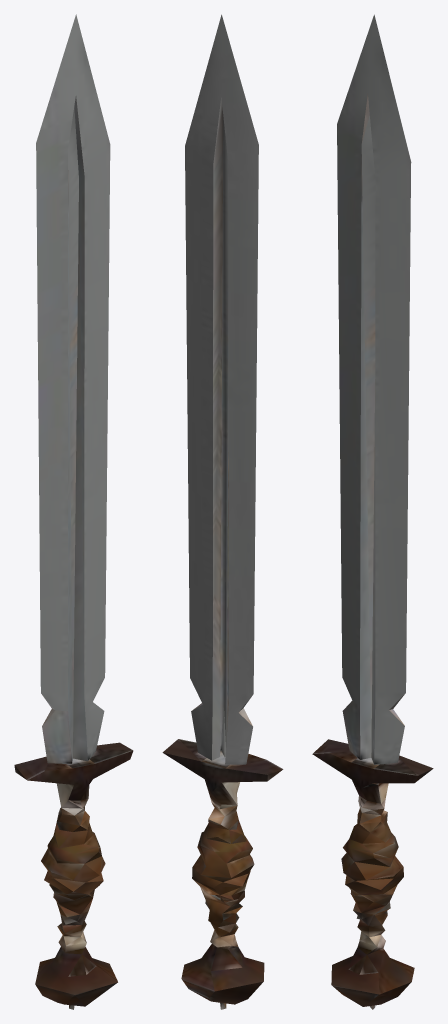
Rendered from weap_roman_gladius_pompeii_2.glb.
The picture shows the model from 3 angles, left to right: view 1: azimuth 30°, elevation 25°; view 2: azimuth 150°, elevation 25°; view 3: azimuth 330°, elevation 25°; orthographic projection.
Visible parts, largest first — view 1: MeshyGear_weap_roman_gladius_pompeii; view 2: MeshyGear_weap_roman_gladius_pompeii; view 3: MeshyGear_weap_roman_gladius_pompeii.
Part boxes in pixels (box(x1,y1,x2,y2)): MeshyGear_weap_roman_gladius_pompeii: box(14, 14, 133, 1009); MeshyGear_weap_roman_gladius_pompeii: box(162, 14, 283, 1009); MeshyGear_weap_roman_gladius_pompeii: box(312, 14, 433, 1009).
Bounding box in the file's own units: 0.0757 × 0.6732 × 0.0519.
1 material, 1 textured.
